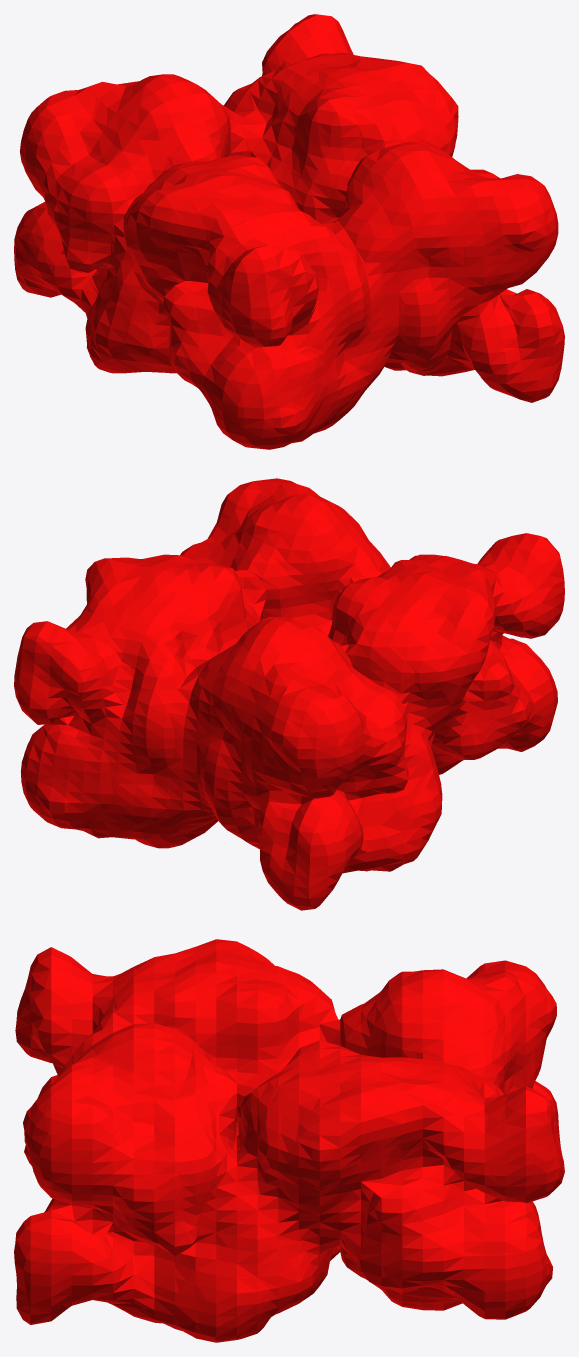
Rendered from mutM_coarse.dae.
3 renders of one model, top to bottom at view 1: azimuth 30°, elevation 25°; view 2: azimuth 150°, elevation 25°; view 3: azimuth 270°, elevation 25°, orthographic. The views are drawn at different scales.
Visible parts, largest first — view 1: mutM; view 2: mutM; view 3: mutM.
Part boxes in pixels (x1=…): mutM: x1=14, y1=14, x2=564, y2=449; mutM: x1=14, y1=478, x2=564, y2=910; mutM: x1=14, y1=939, x2=564, y2=1342.
Bounding box in the file's own units: 85.17 × 57.66 × 103.
